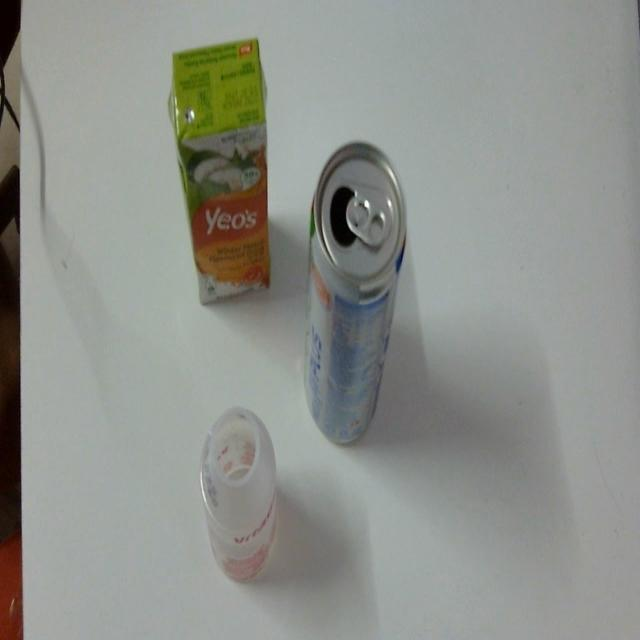metal_standrotation: (303, 134, 415, 448)
plastic_standrotation: (164, 25, 278, 313), (199, 398, 287, 592)
